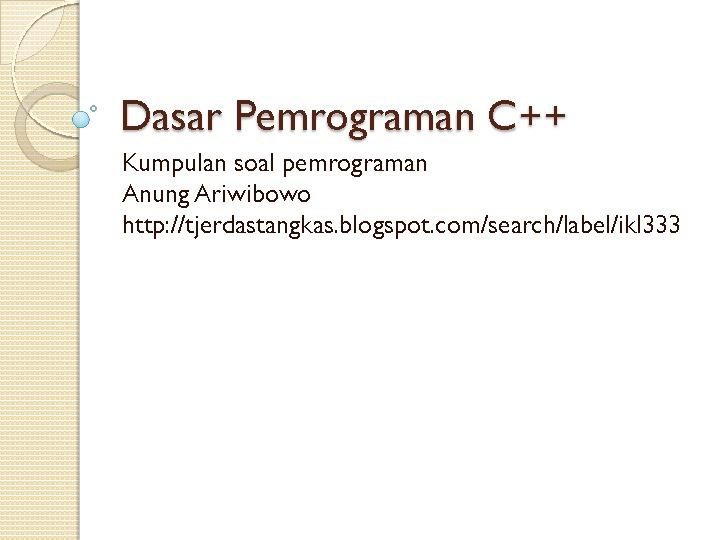title: (109, 78, 583, 149)
